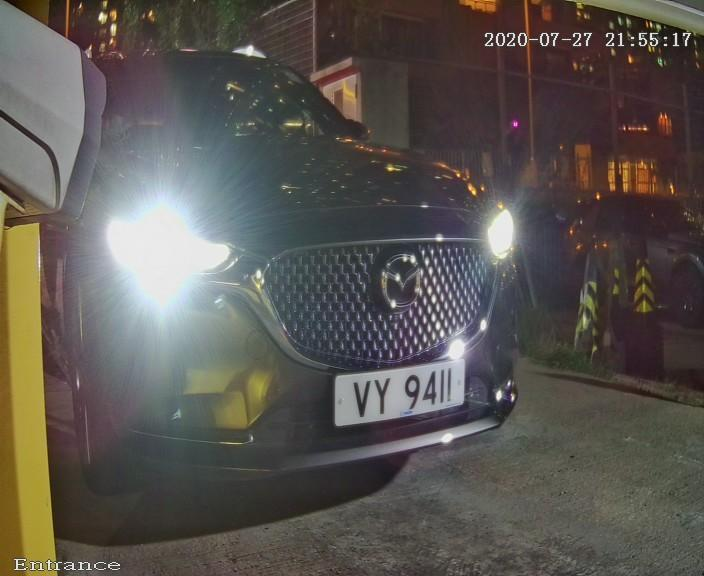privatecar: (32, 6, 557, 535)
